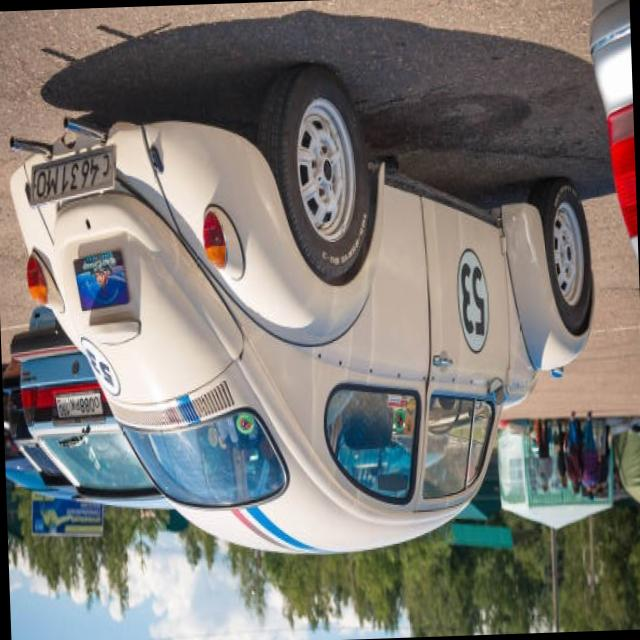car: (6, 79, 608, 560)
